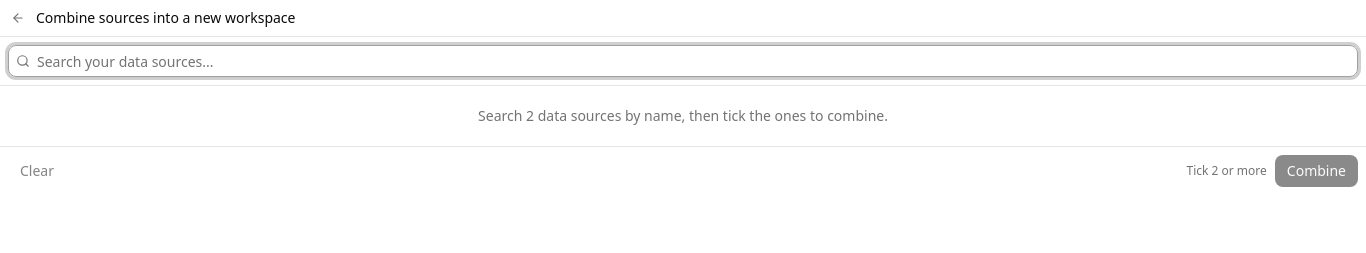
removes a chip, and clears the whole basket
Type "a" into the field with test id "workspace-basket-search" at (683, 61), box [8,45,1358,77]
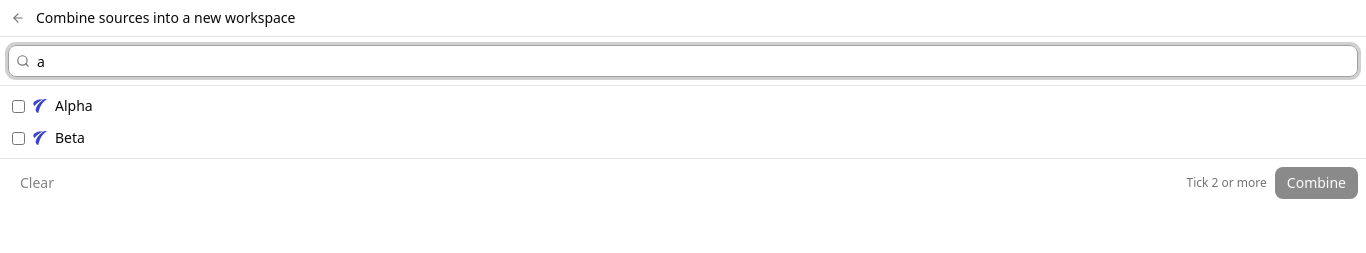
Click the checkbox with test id "workspace-basket-option-a" at (18, 106), box [12,100,25,112]
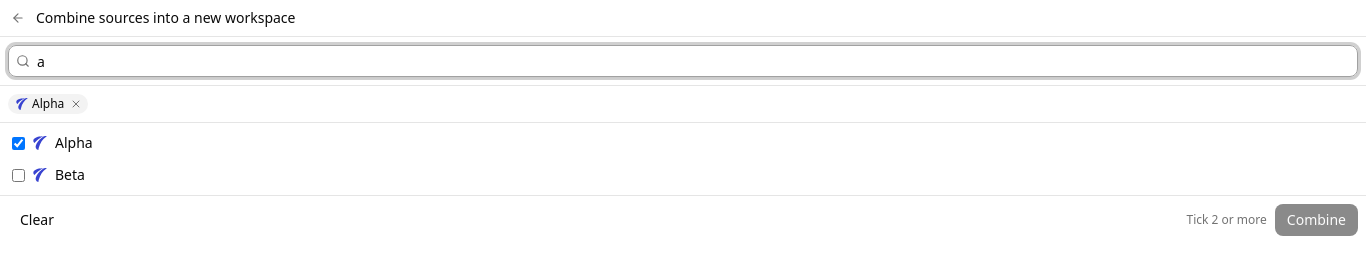
Click the checkbox with test id "workspace-basket-option-b" at (18, 175), box [12,168,25,182]
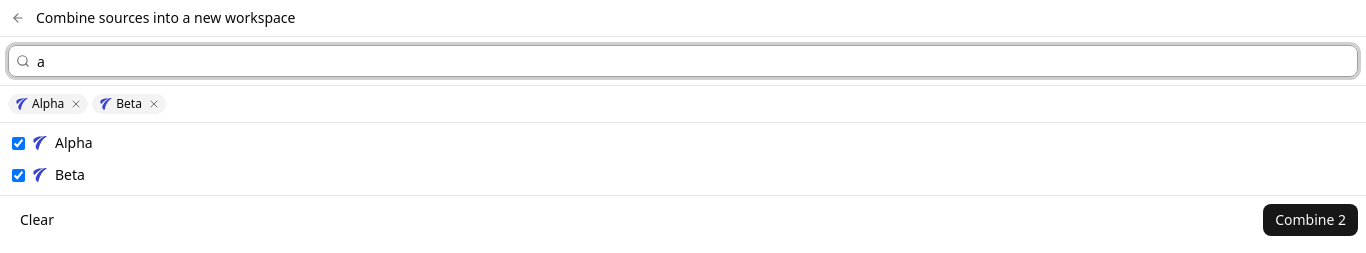
Click the button named "Remove Alpha" at (76, 104), box [68,96,84,112]
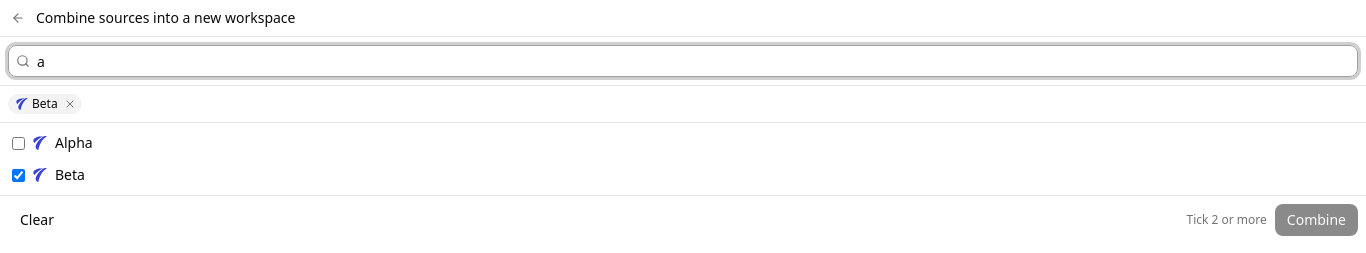
Expected: the checkbox with test id "workspace-basket-option-a" is not checked, [12,136,25,150]
Expected: the element with test id "workspace-basket-chip-a" is gone
Click the button with test id "workspace-basket-clear" at (37, 220), box [8,204,66,236]
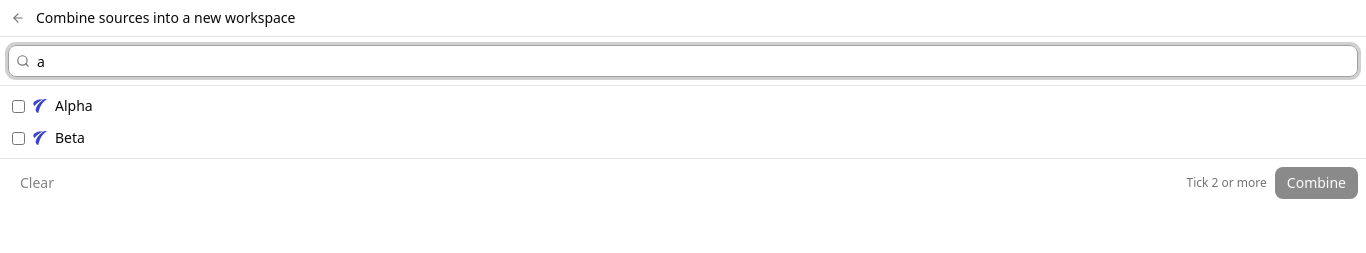
Expected: the element with test id "workspace-basket-chip-b" is gone
Expected: the button with test id "workspace-basket-clear" is disabled, [8,167,66,199]
